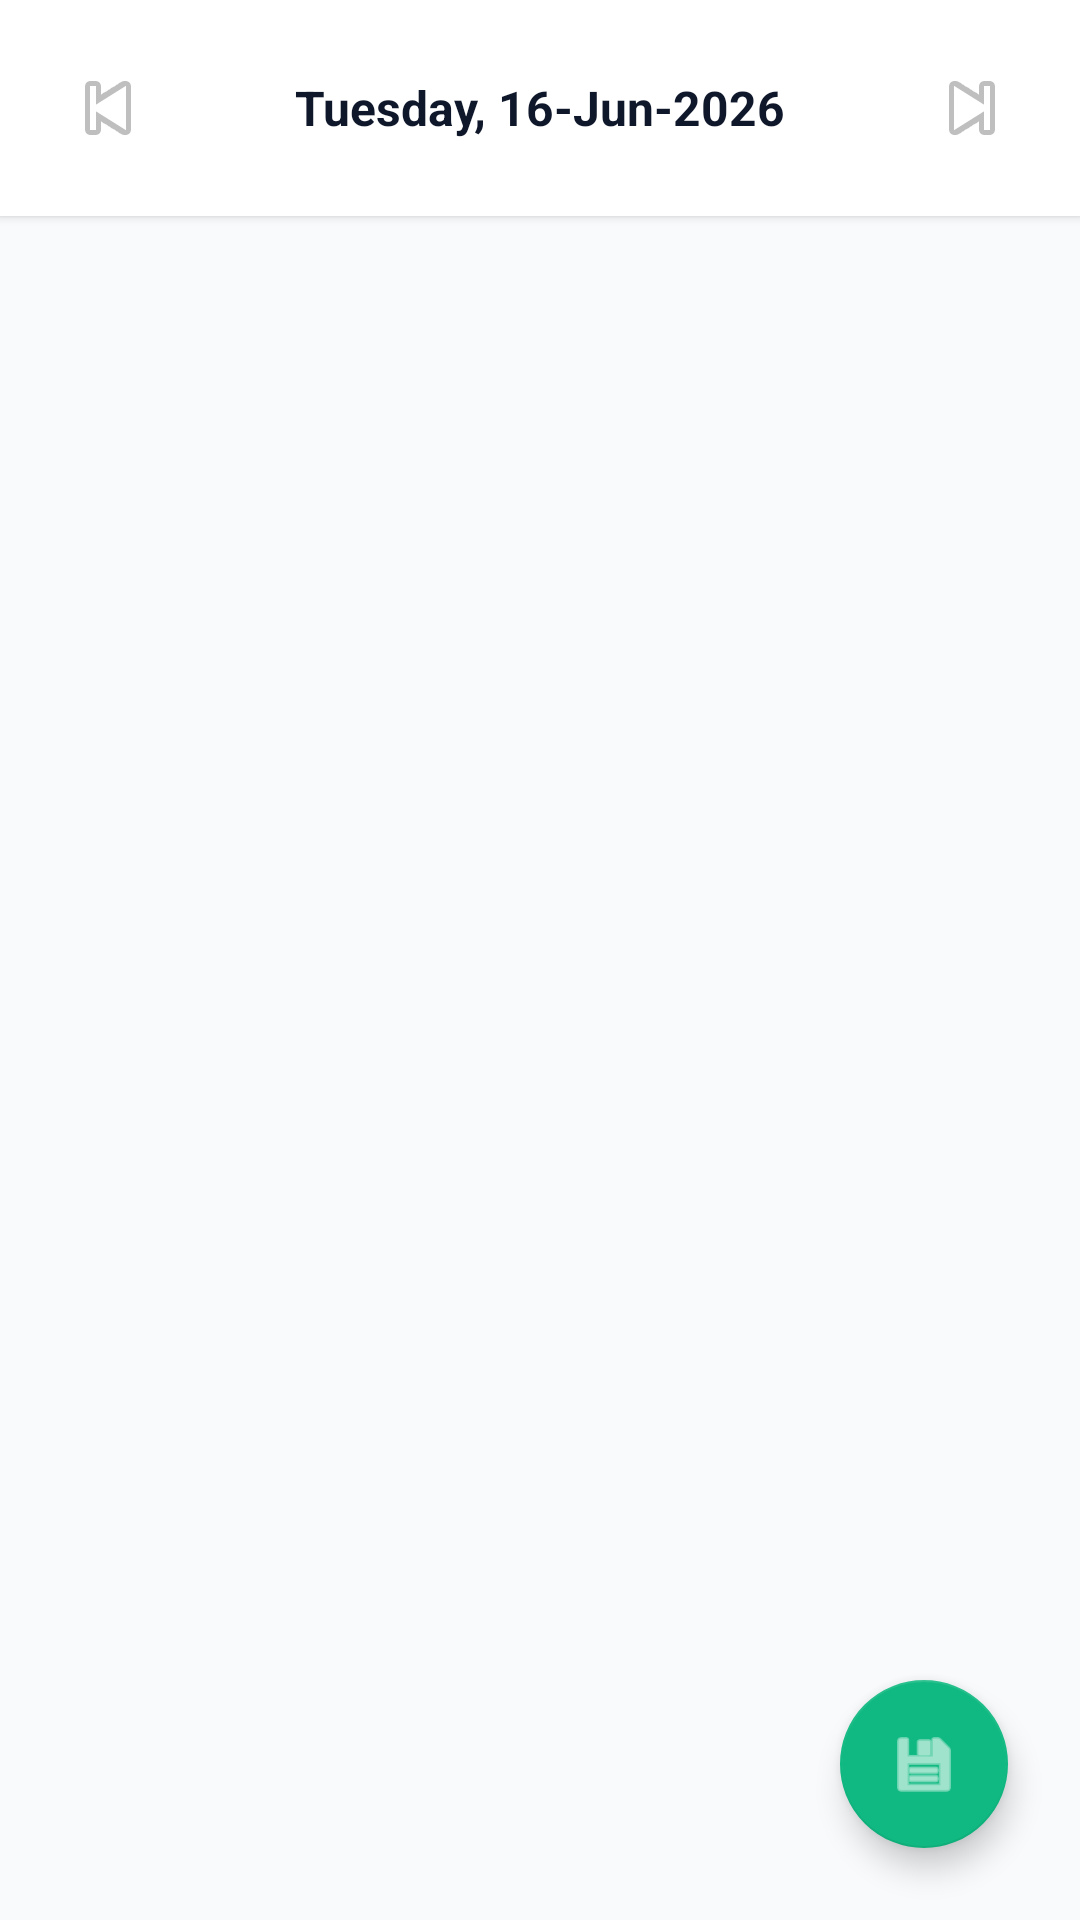

Point at icon controls on the screen. Image size 1080w x 1920h, points as (x=x, y=y).
Next Day: (x=972, y=108)
Previous Day: (x=108, y=108)
Save Attendance: (x=924, y=1764)
